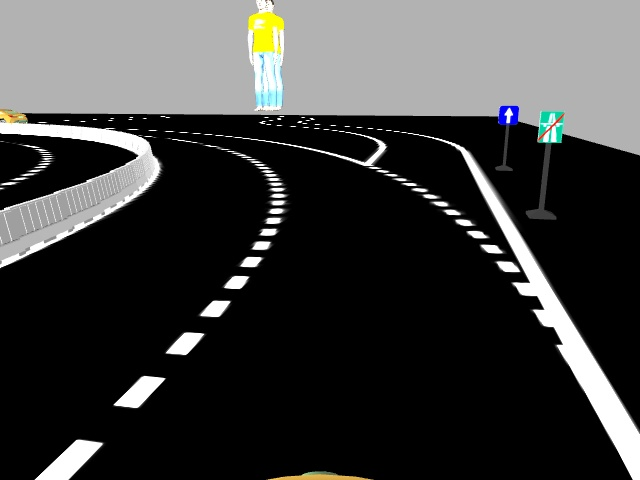HighwayExit: (538, 110, 562, 142)
OneWay: (497, 105, 519, 125)
